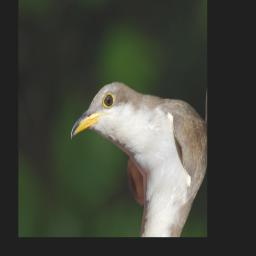Cuckoo: (64, 29, 207, 214)
